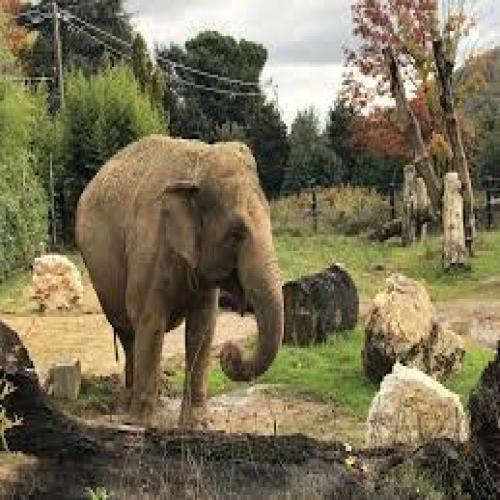asian_elephant-endangered: (77, 136, 285, 430)
